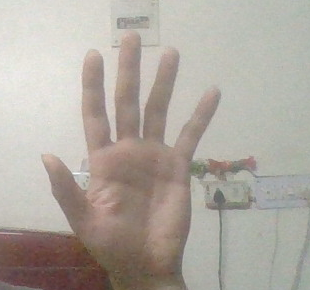move: (46, 27, 225, 290)
